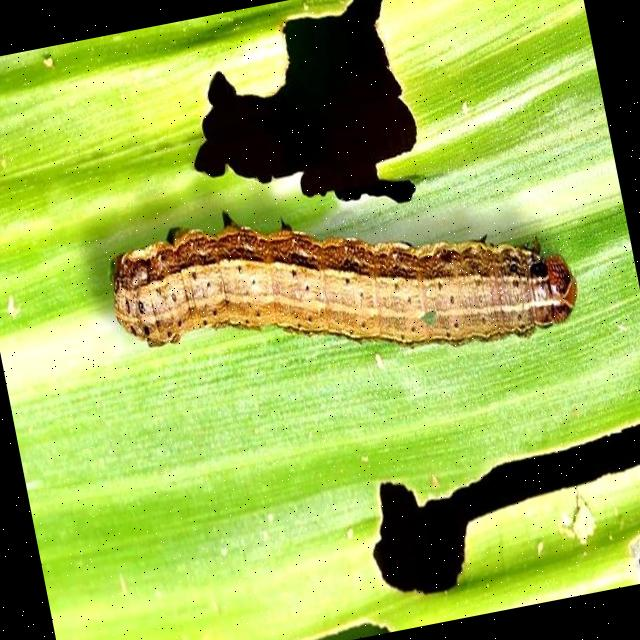worm: (101, 150, 588, 418)
